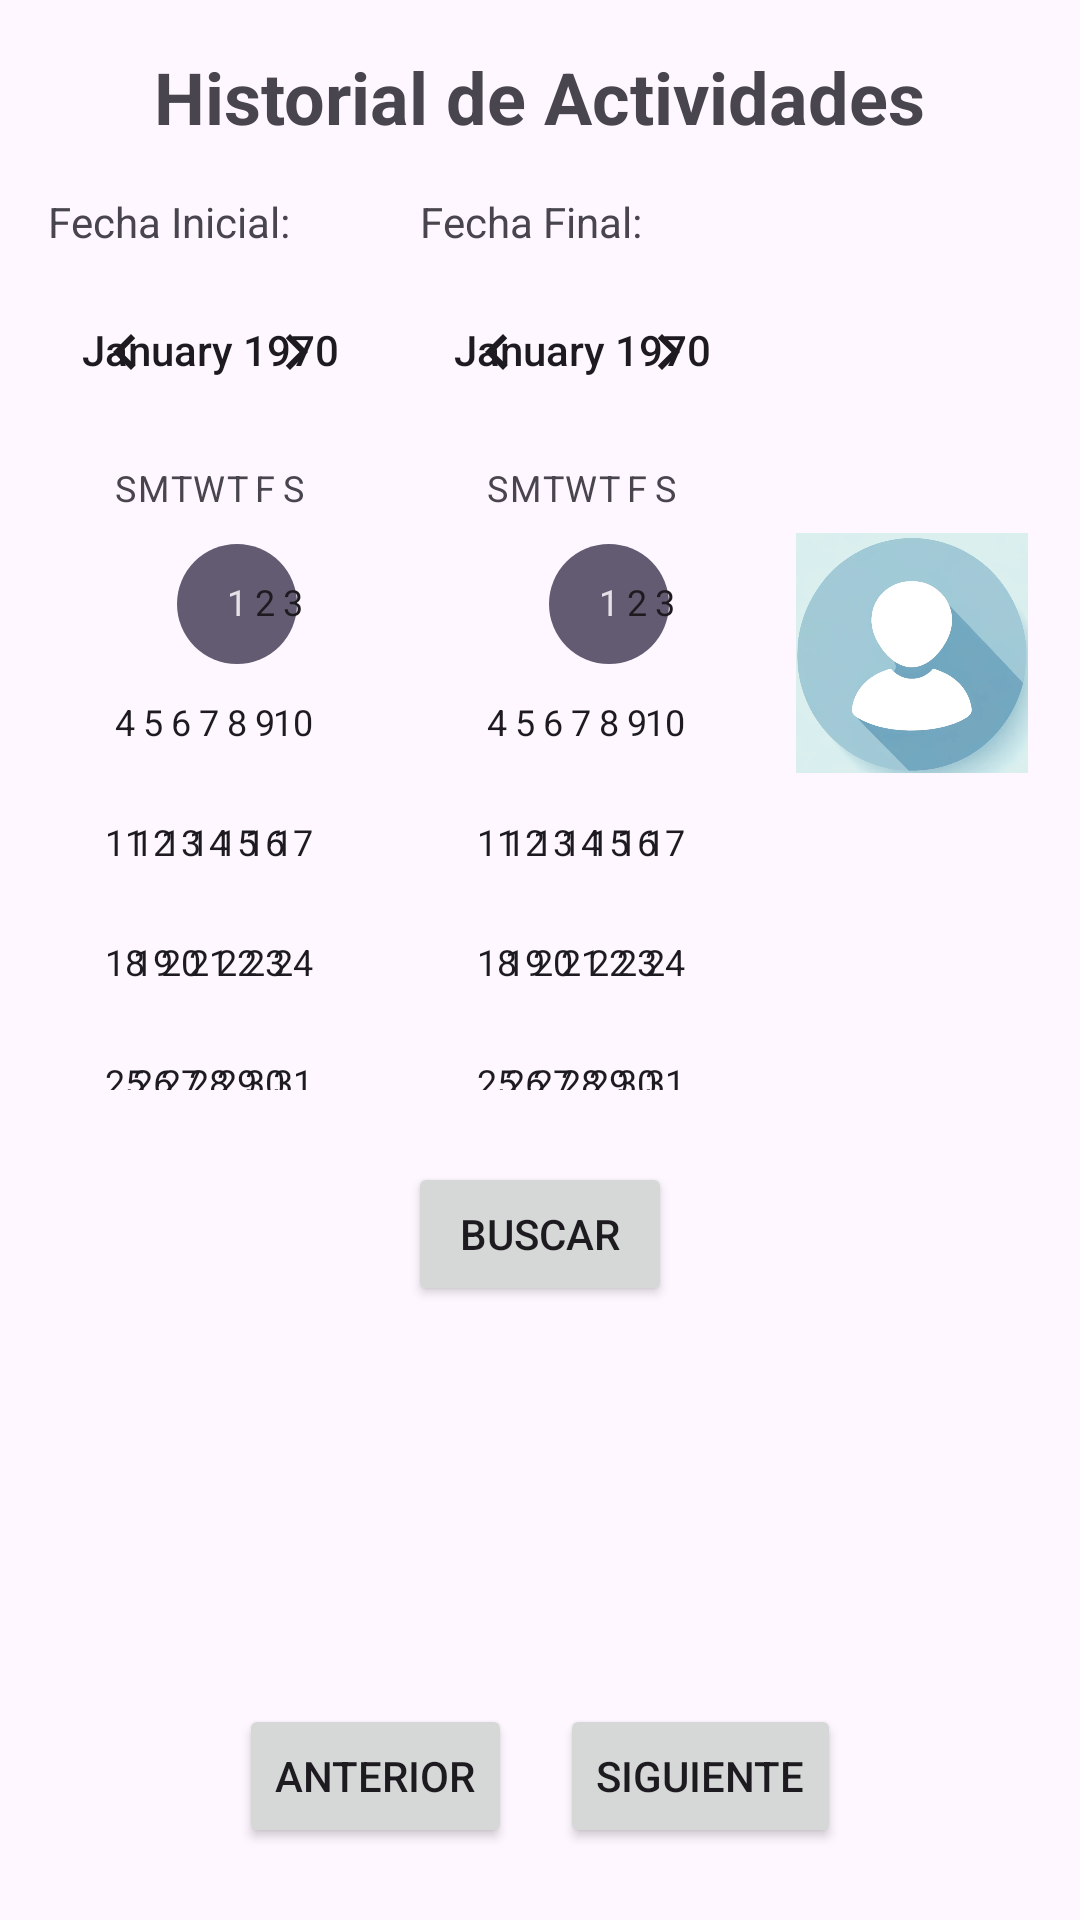

Named icons in this screenshot (1080px x 1920px) and their bounding boxes, (x1, y1, x2, y2):
user: (796, 533, 1028, 773)
